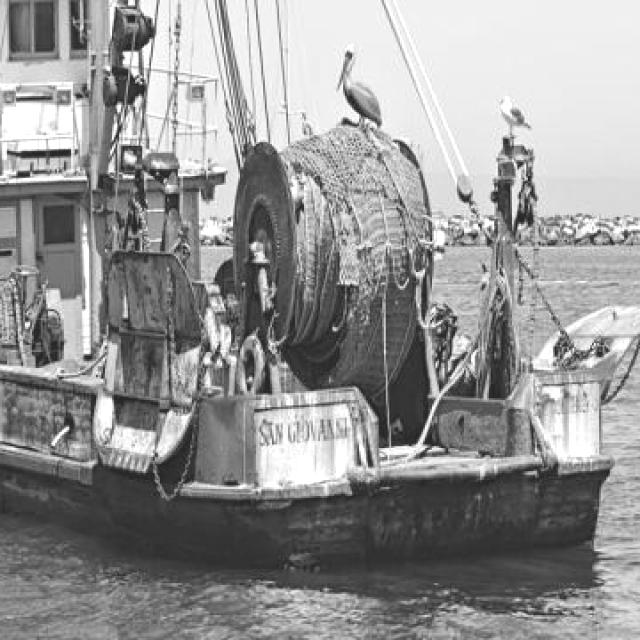ship: (0, 0, 613, 569)
